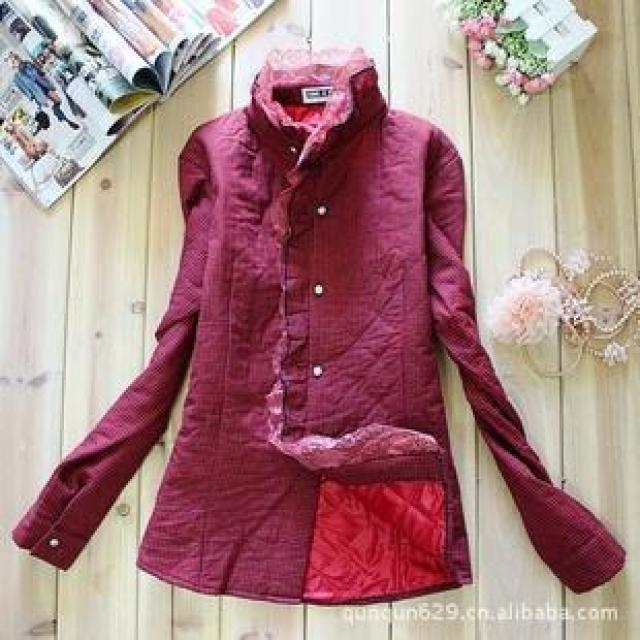other: (127, 85, 542, 599)
